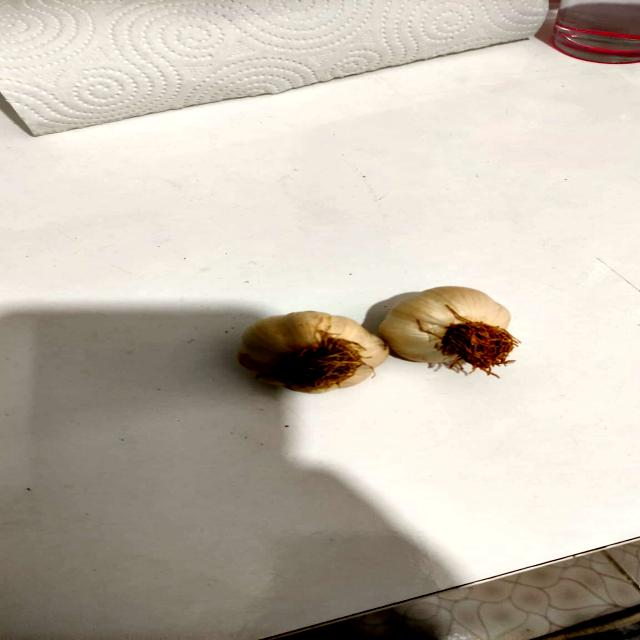garlic: (226, 304, 390, 394), (374, 284, 538, 374)
